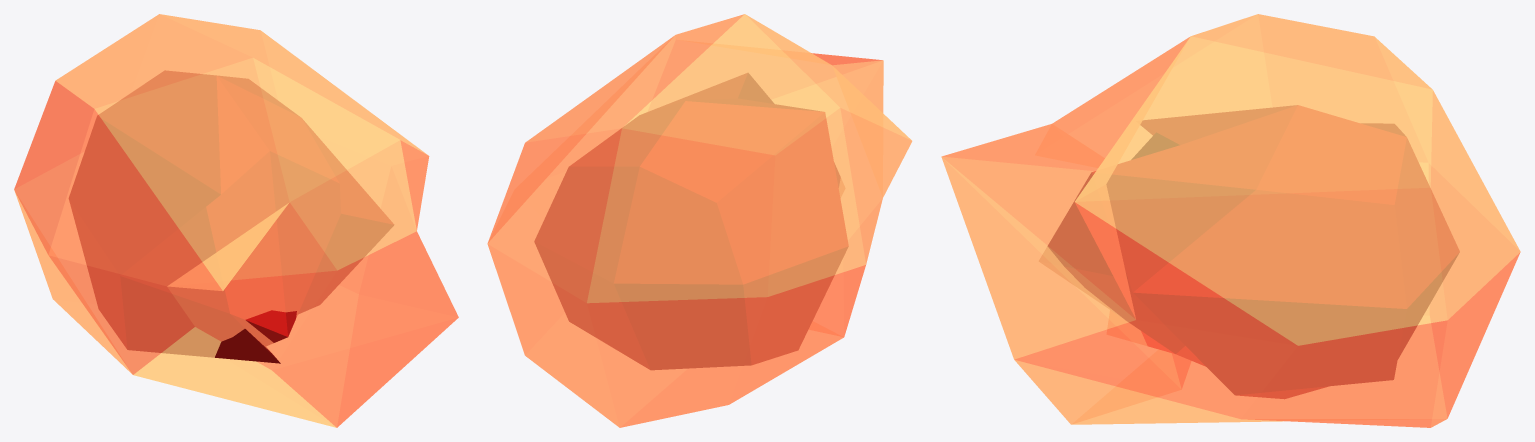
Rendered from fireball.fbx.
The picture shows the model from 3 angles, left to right: view 1: azimuth 30°, elevation 25°; view 2: azimuth 150°, elevation 25°; view 3: azimuth 270°, elevation 25°; orthographic projection. The views are drawn at different scales.
Visible parts, largest first — view 1: Inner Fire; view 2: Inner Fire; view 3: Inner Fire.
Boxes of the visible parts, bbox=[...] form: Inner Fire: bbox=[14, 14, 458, 427]; Inner Fire: bbox=[487, 14, 912, 427]; Inner Fire: bbox=[941, 14, 1520, 427].
Size of the model in its own units: 39.05 by 36.24 by 50.57.
